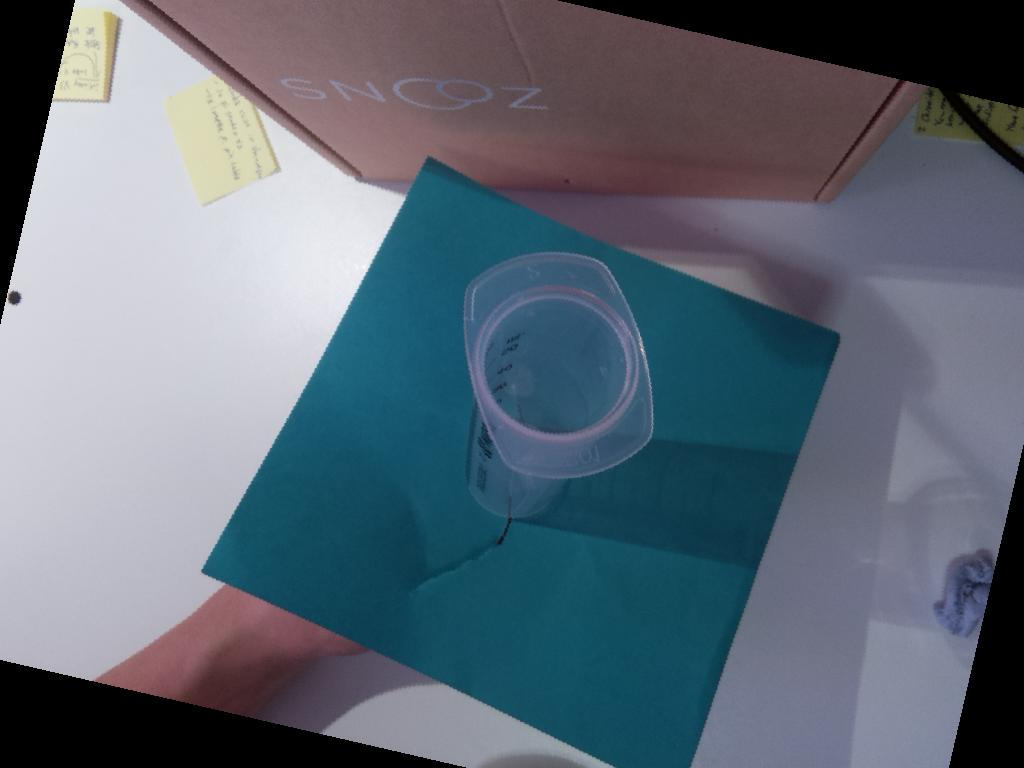clean: (463, 252, 656, 482)
